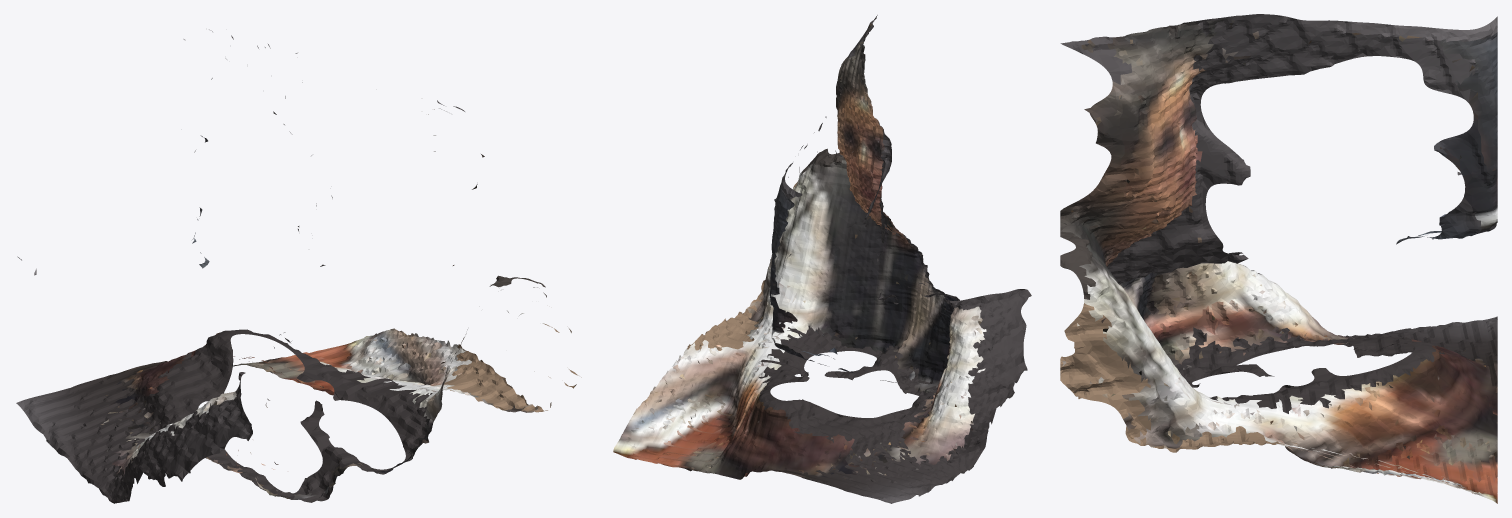
3 renders of one model, left to right at view 1: azimuth 30°, elevation 25°; view 2: azimuth 150°, elevation 25°; view 3: azimuth 270°, elevation 25°, orthographic. The views are drawn at different scales.
Bounding box in the file's own units: 0.4516 × 0.5168 × 0.4936.
1 material, 1 textured.
